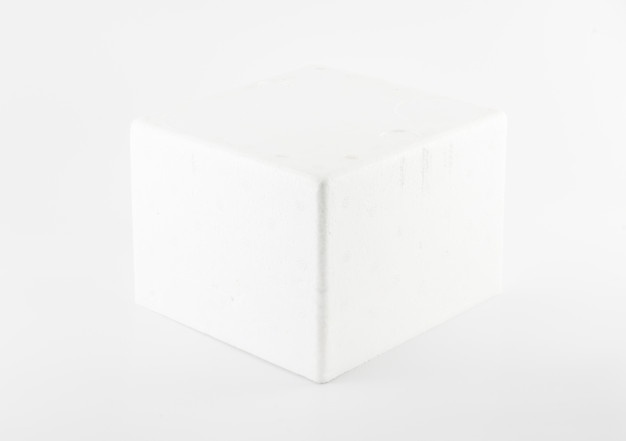Foam Box: (120, 54, 520, 387)
